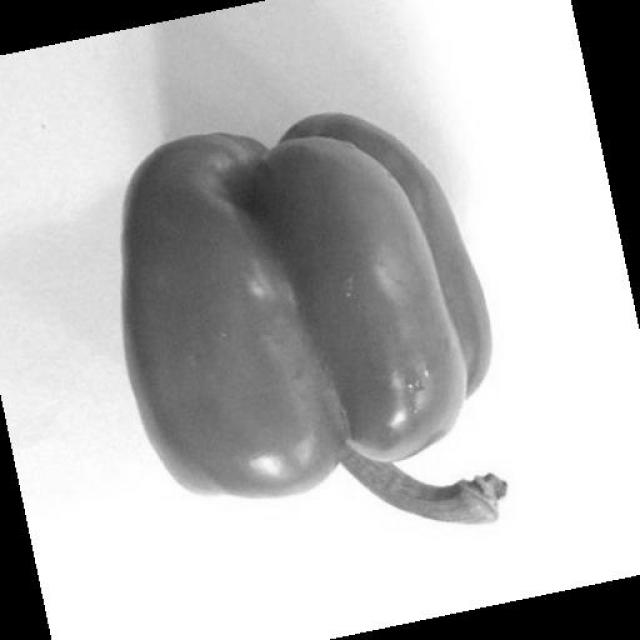Fresh_Capsicum: (147, 152, 562, 500)
